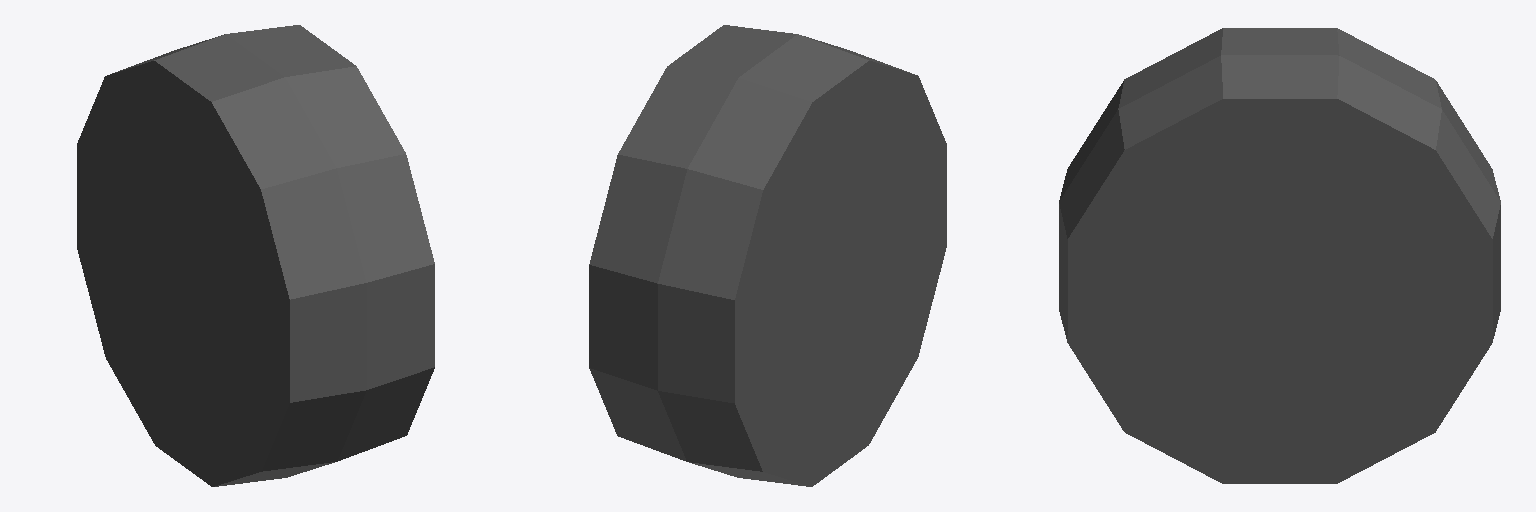
The model's file is NovaTire.obj.
3 views of the same model, side by side, from view 1: azimuth 30°, elevation 25°; view 2: azimuth 150°, elevation 25°; view 3: azimuth 270°, elevation 25° (orthographic).
Parts seen in each view (by area): view 1: Tire_Car_Plane.004; view 2: Tire_Car_Plane.004; view 3: Tire_Car_Plane.004.
Boxes of the visible parts, x1,y1,x2,y2 form: Tire_Car_Plane.004: [77, 25, 434, 486]; Tire_Car_Plane.004: [589, 25, 946, 486]; Tire_Car_Plane.004: [1059, 28, 1500, 483].
Size of the model in its own units: 0.4201 by 1.1 by 1.1.